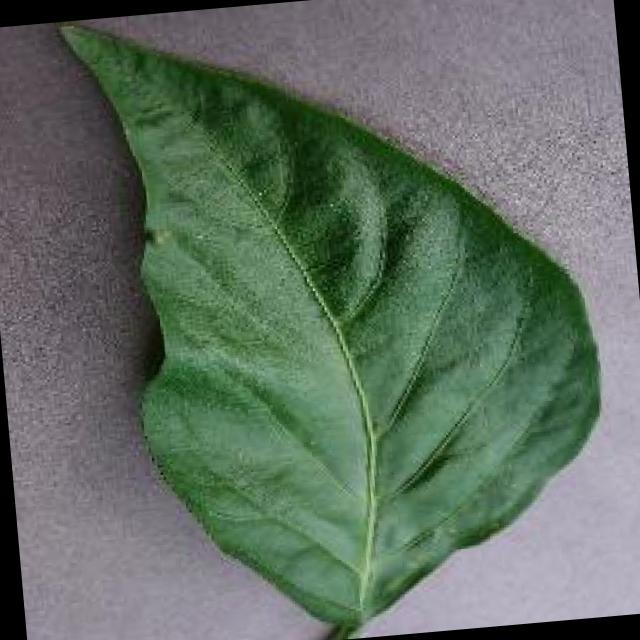Chilli_Healthy: (53, 0, 622, 640)
